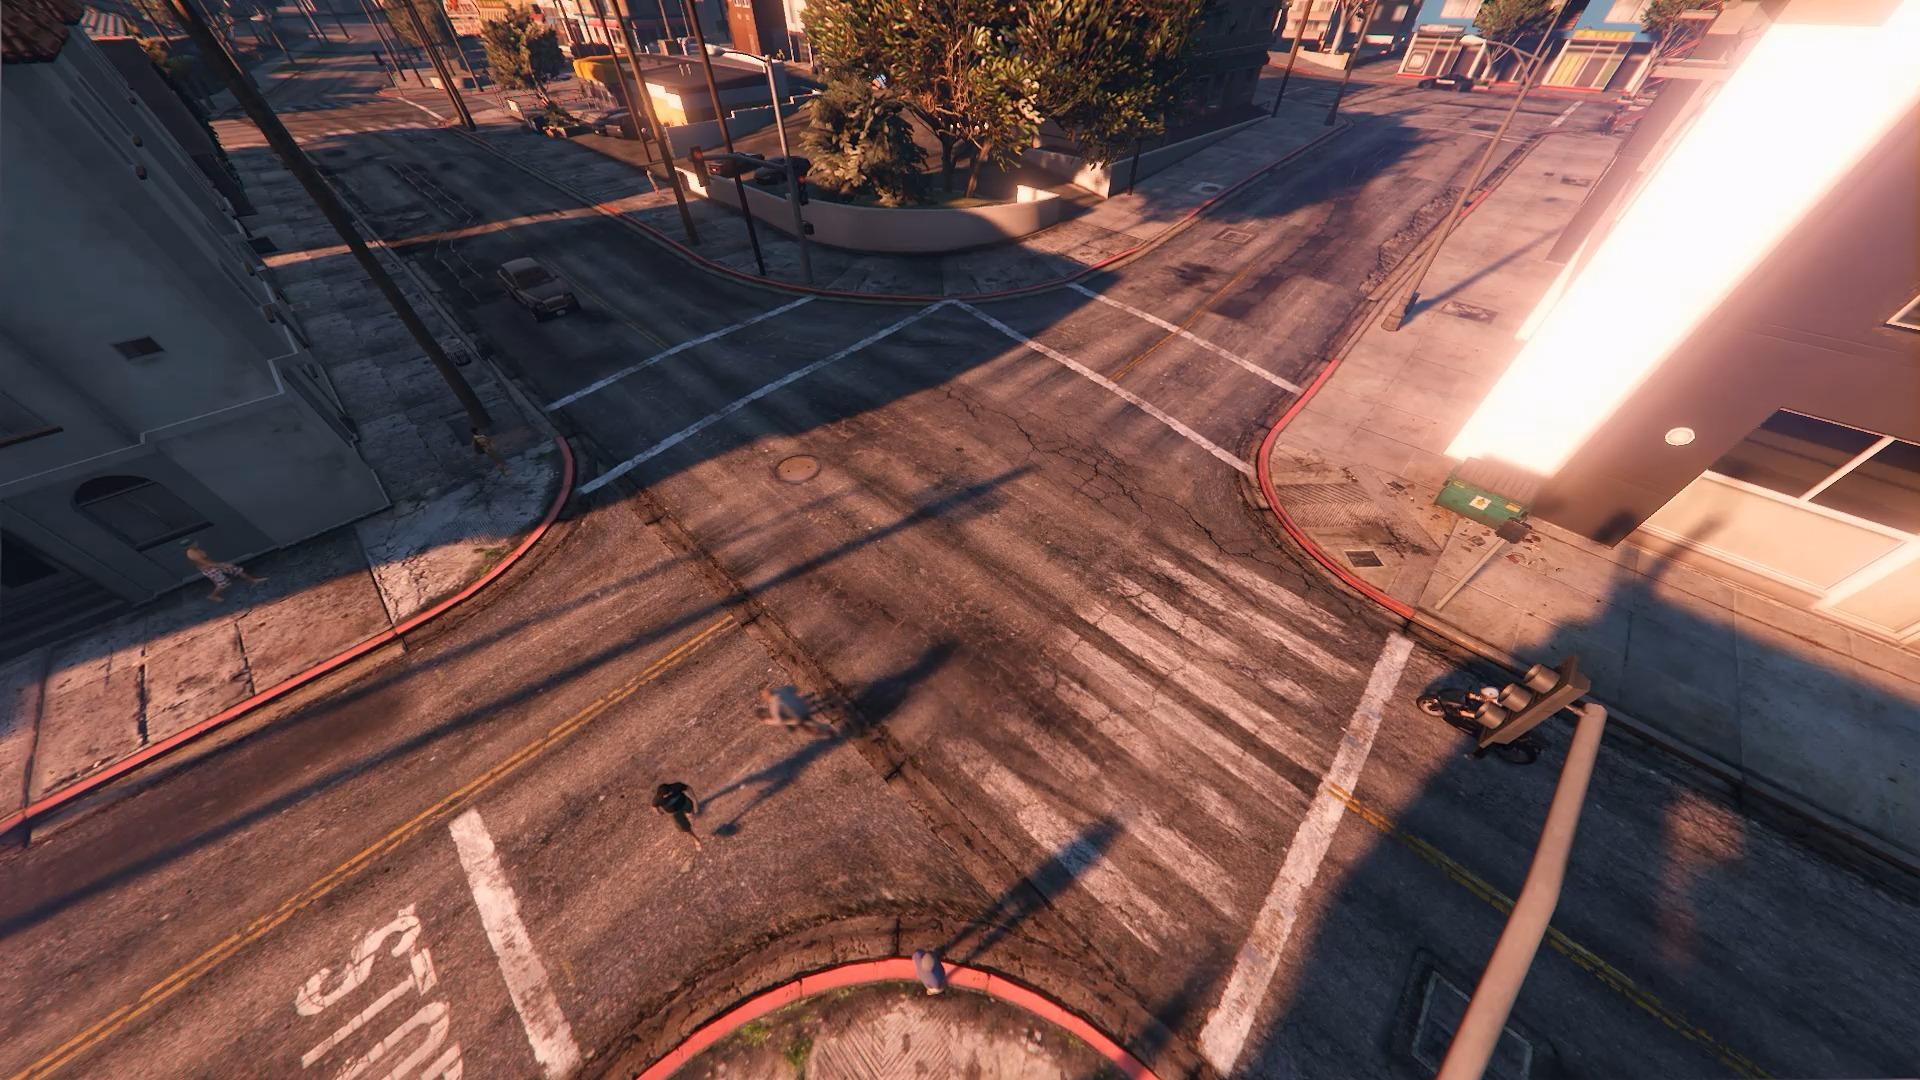car: (1416, 666, 1553, 766), (496, 257, 579, 320)
